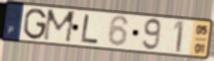1: (172, 19, 185, 54)
6: (106, 14, 132, 50)
9: (140, 17, 163, 52)
G: (23, 8, 48, 41)
L: (79, 13, 101, 45)
M: (41, 8, 78, 45)
